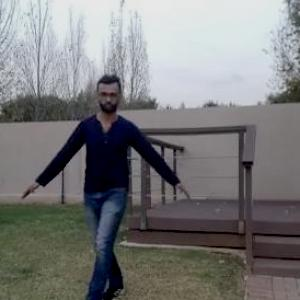land: (43, 73, 177, 299)
